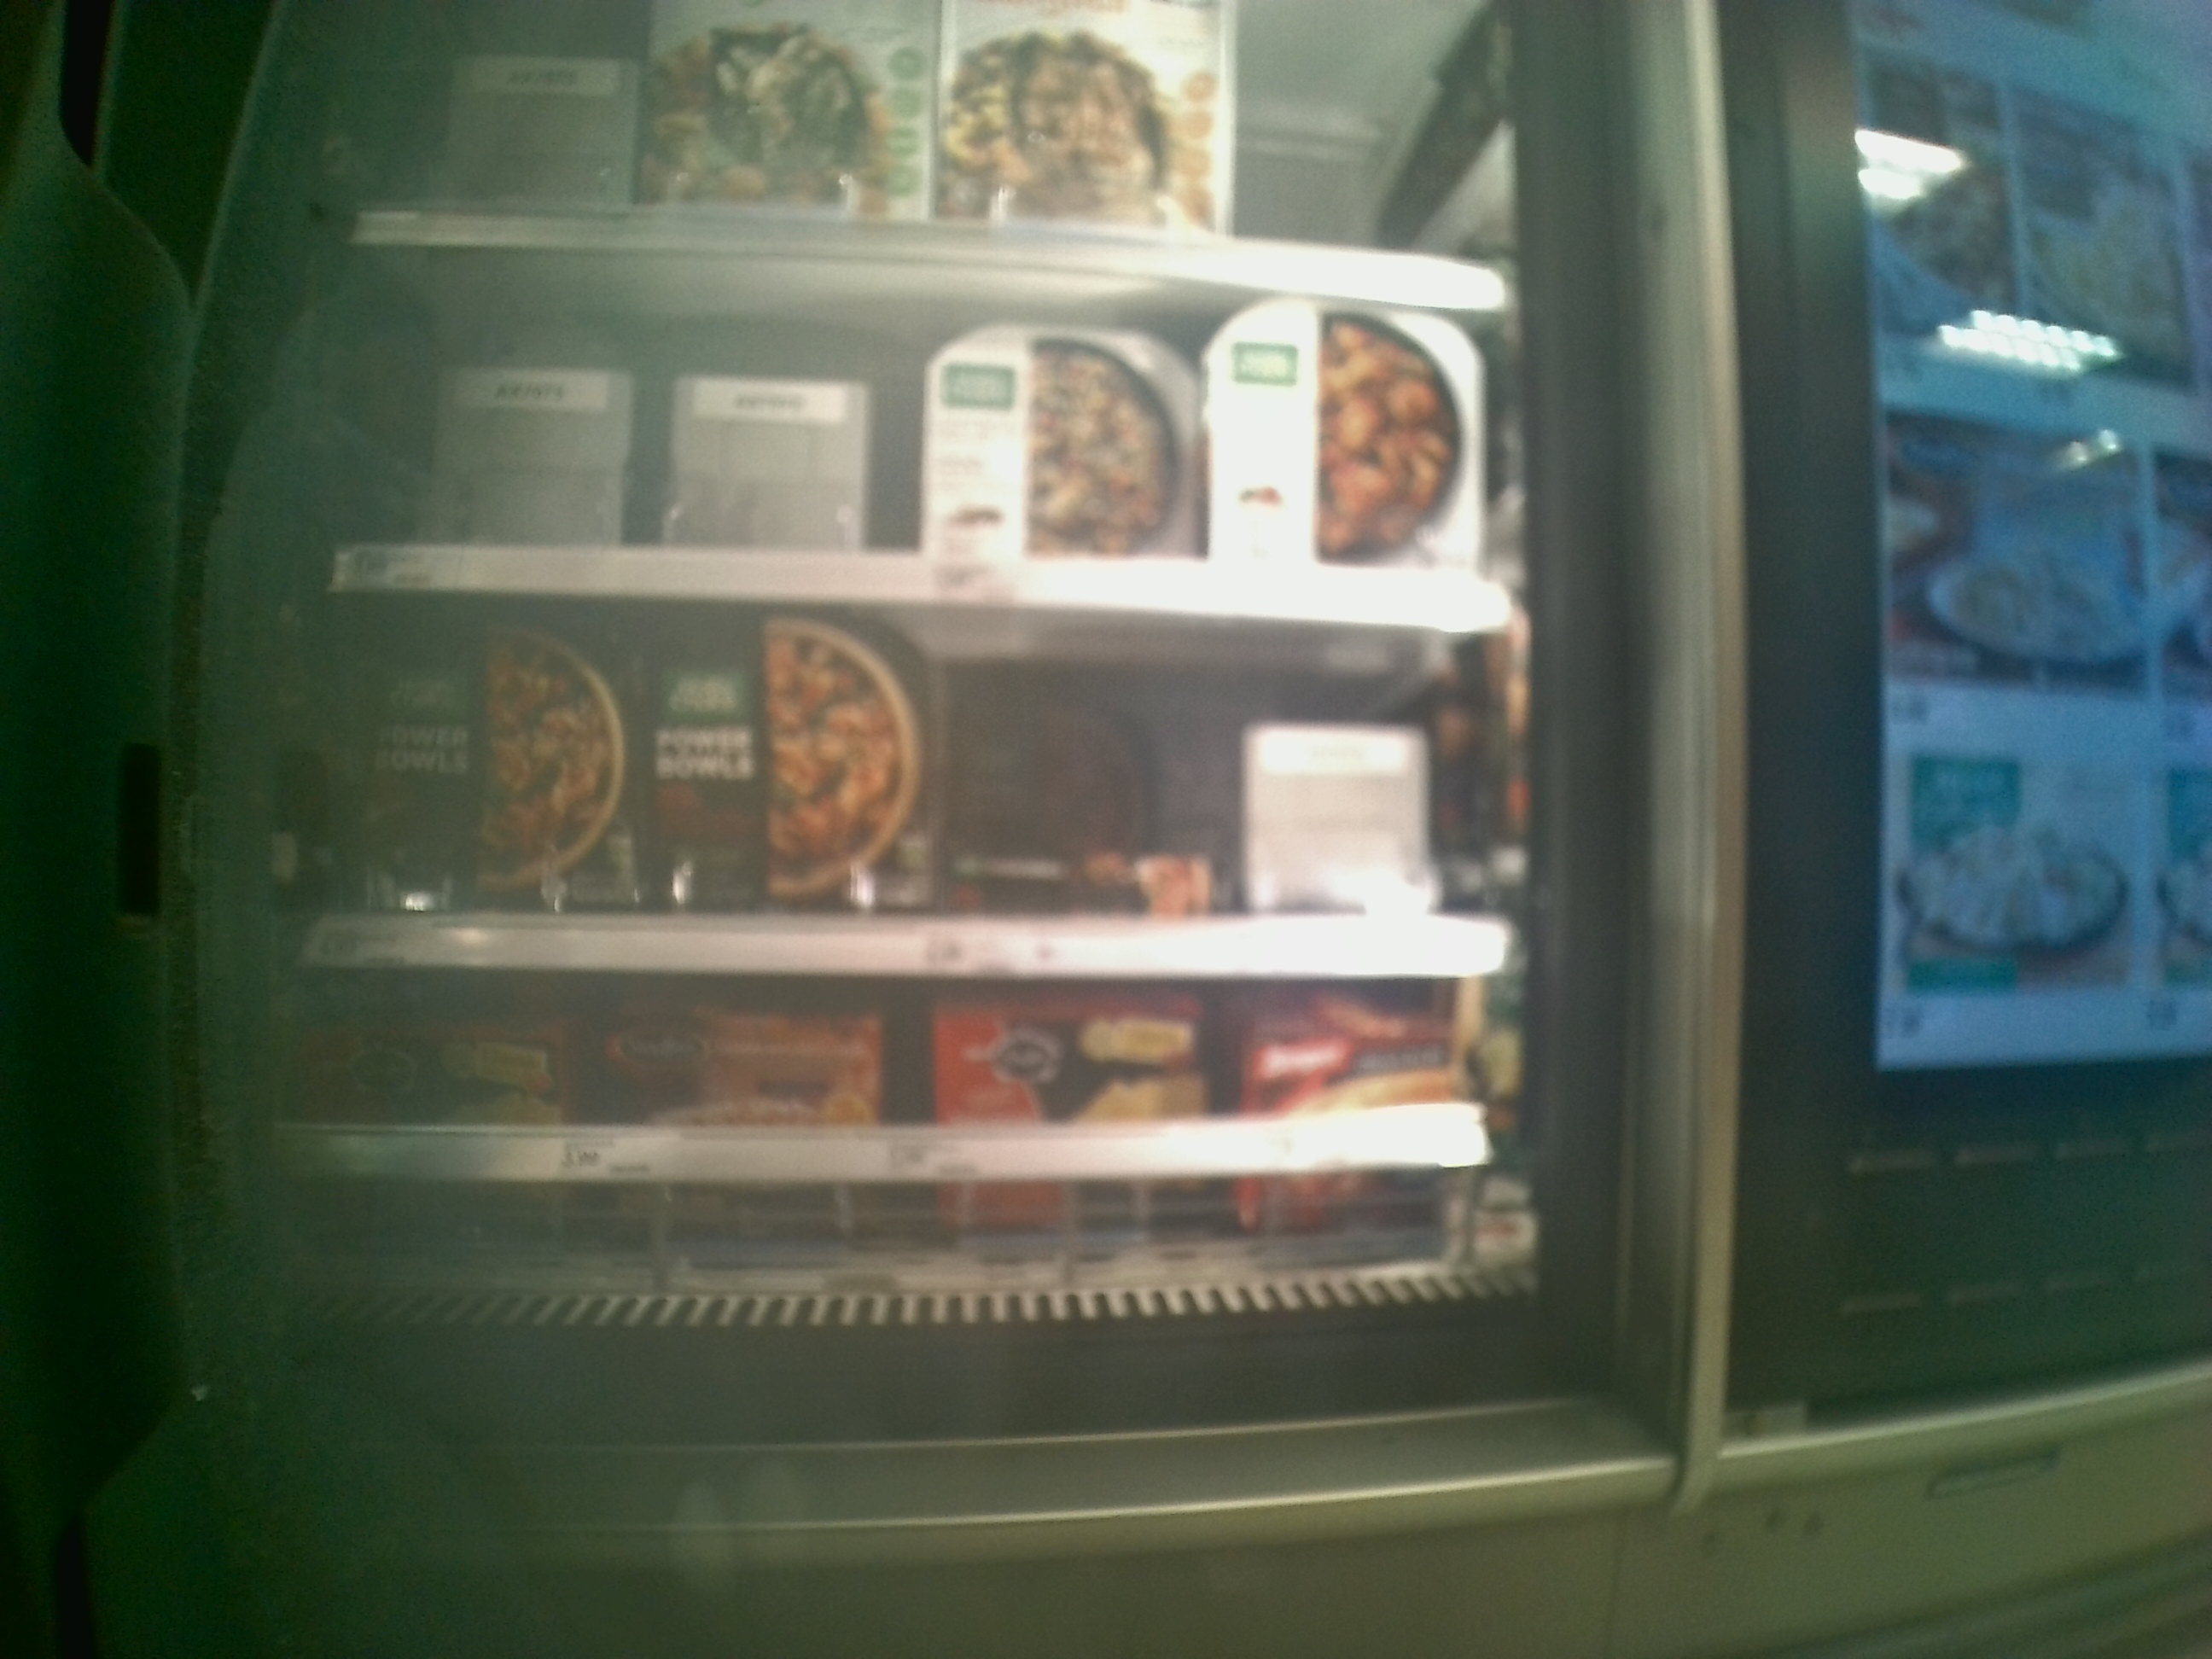shelf: (320, 582, 1519, 985), (341, 239, 1521, 631), (280, 983, 1554, 1338)
